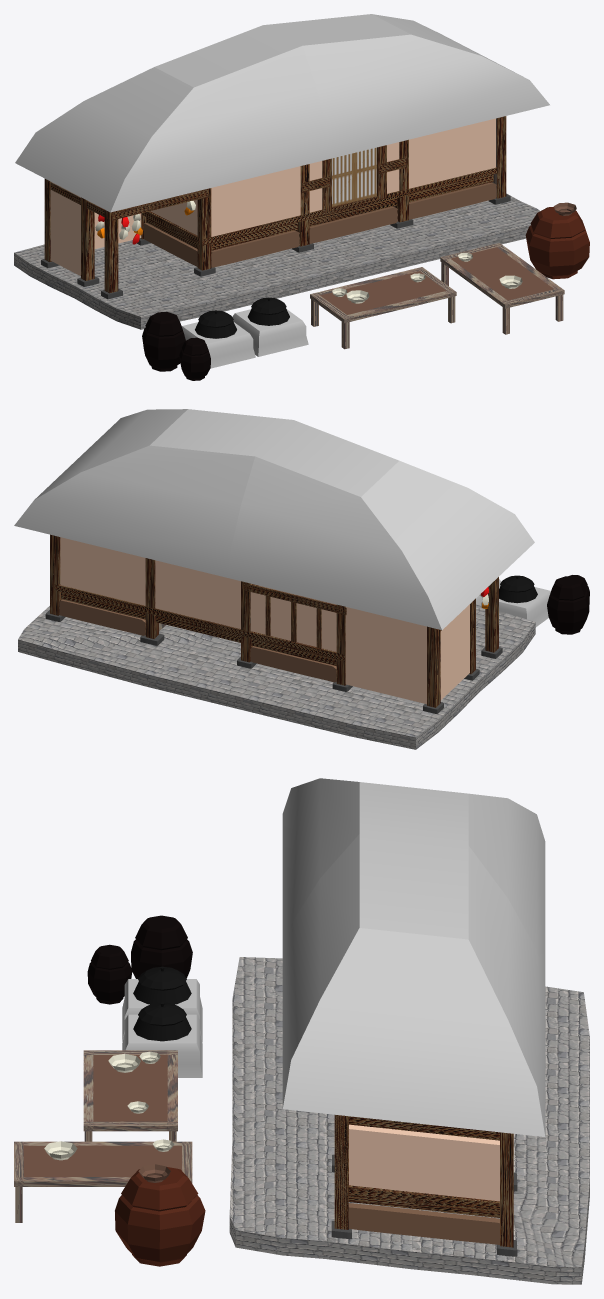
File: Bar_0.FBX
The picture shows the model from 3 angles, top to bottom: view 1: azimuth 30°, elevation 25°; view 2: azimuth 150°, elevation 25°; view 3: azimuth 270°, elevation 25°; orthographic projection. The views are drawn at different scales.
Parts seen in each view (by area): view 1: Object016, Box015, Box020, Box014, Box001, Box012, Box011, Box013, Cylinder004, Cylinder005; view 2: Object016, Box001, Box011, Cylinder004; view 3: Object016, Box015, Box020, Box014, Box001, Box012, Box013, Cylinder005, Cylinder004, Box011.
Part boxes in pixels (x1,y1,x2,y2): Object016: (14, 14, 549, 329); Box015: (310, 267, 456, 349); Box020: (440, 243, 564, 334); Box014: (525, 206, 589, 279); Box001: (142, 311, 185, 371); Box012: (232, 309, 308, 356); Box011: (182, 322, 255, 368); Box013: (179, 337, 210, 380); Cylinder004: (195, 310, 236, 338); Cylinder005: (247, 297, 289, 325); Object016: (14, 409, 535, 749); Box001: (547, 576, 589, 634); Box011: (481, 587, 550, 627); Cylinder004: (499, 575, 537, 603); Object016: (229, 778, 589, 1284); Box015: (83, 1050, 177, 1141); Box020: (14, 1141, 192, 1222); Box014: (115, 1167, 205, 1266); Box001: (131, 915, 192, 978); Box012: (122, 1014, 202, 1077); Box013: (87, 944, 132, 1004); Cylinder005: (133, 1002, 191, 1041); Cylinder004: (133, 966, 191, 1004); Box011: (122, 979, 202, 1041).
Bounding box in the file's own units: 99.95 × 48.69 × 80.53.
